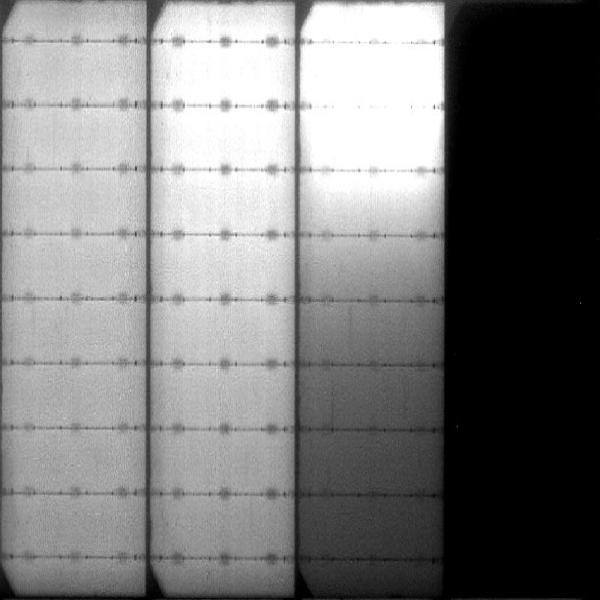hot_spot: (307, 53, 437, 100), (313, 115, 435, 165), (180, 51, 275, 96), (321, 6, 442, 35), (178, 113, 276, 134)
no_electricity: (444, 1, 599, 599)
